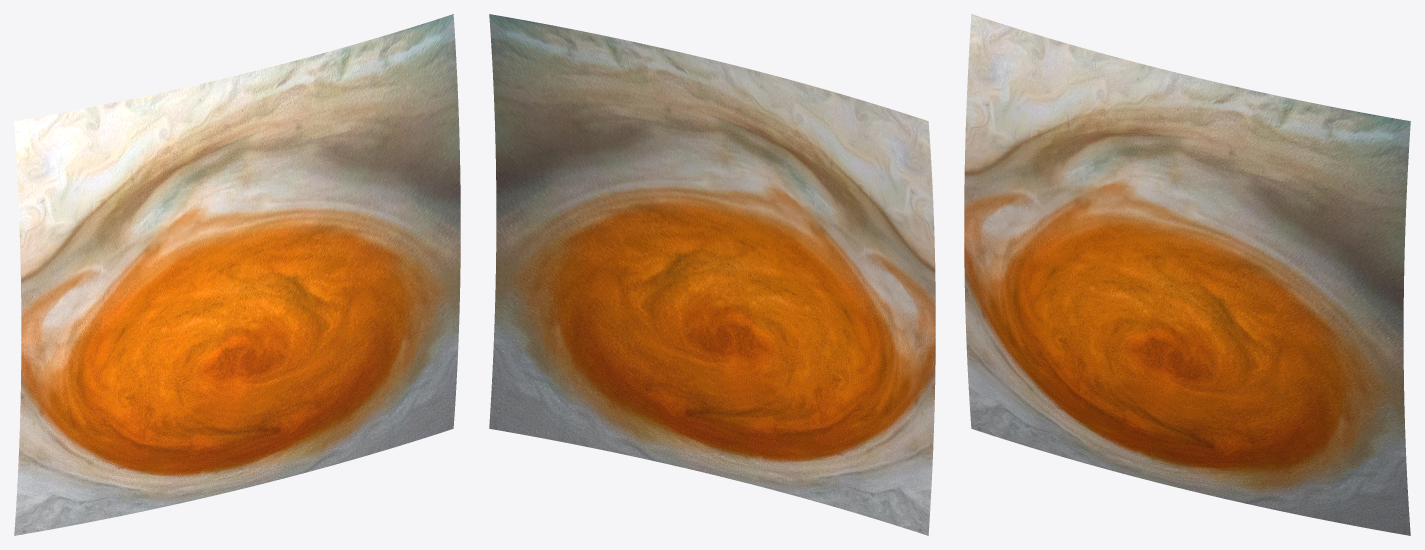
Rendered from juno-great-red-spot.glb.
The picture shows the model from 3 angles, left to right: view 1: azimuth 30°, elevation 25°; view 2: azimuth 150°, elevation 25°; view 3: azimuth 330°, elevation 25°; orthographic projection.
Visible parts, largest first — view 1: Juno Great Red Spot and cloud collar; view 2: Juno Great Red Spot and cloud collar; view 3: Juno Great Red Spot and cloud collar.
Boxes of the visible parts, <box> form: Juno Great Red Spot and cloud collar: <box>14,14,460,535</box>; Juno Great Red Spot and cloud collar: <box>489,14,935,535</box>; Juno Great Red Spot and cloud collar: <box>964,14,1410,535</box>.
Size of the model in its own units: 1.2 by 1.08 by 0.0753.
Materials: 1 (1 with a texture image).
